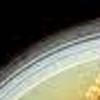yellow: (88, 85, 99, 96), (84, 91, 93, 100), (92, 93, 100, 100), (95, 78, 100, 88), (96, 87, 100, 96)
